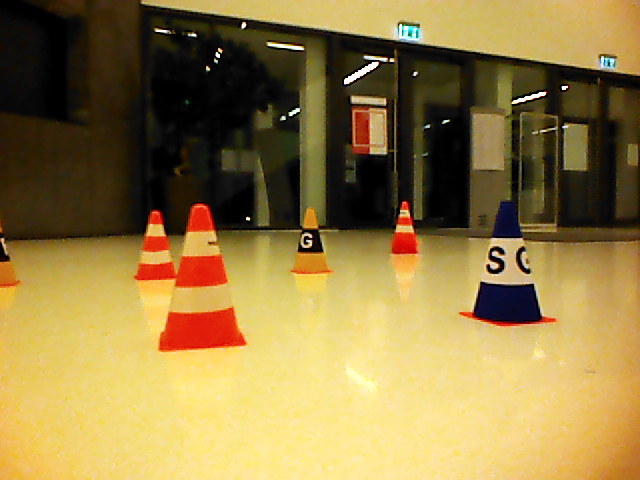bluecone: (474, 200, 544, 322)
orangeconesmall: (166, 203, 238, 343), (141, 208, 176, 277), (394, 201, 417, 245)
yellowcone: (296, 206, 328, 271)
